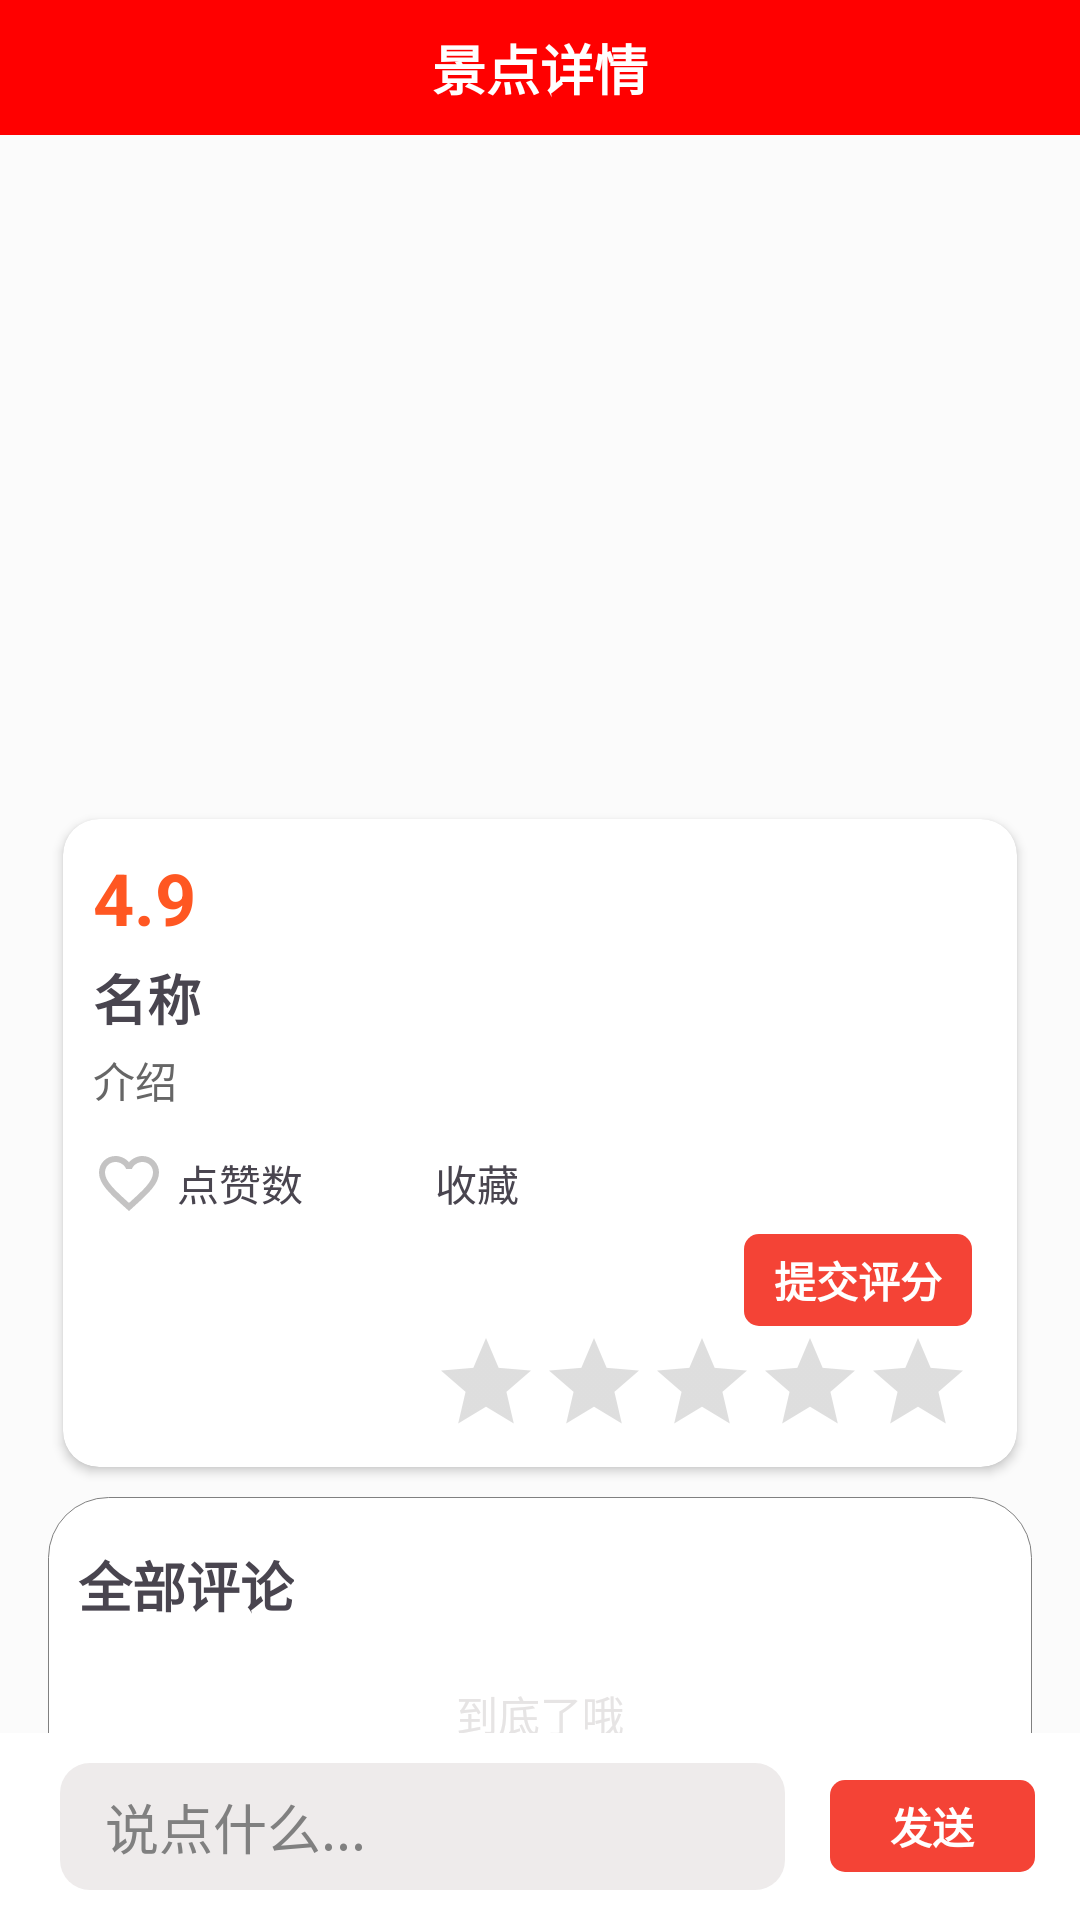

Icons on this 1080w x 1920h Android screen, each with its box as (x1, y1, x2, y2):
like: (99, 1156, 159, 1211)
